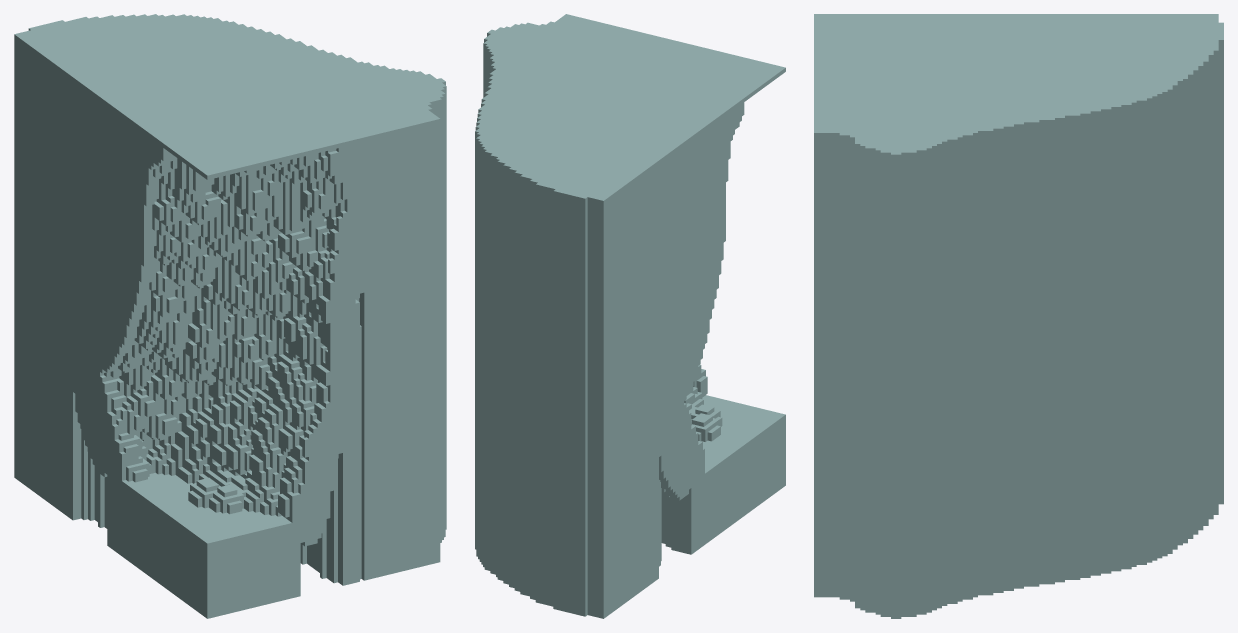
Rendered from TerrainPieces-23.obj.
The picture shows the model from 3 angles, left to right: view 1: azimuth 30°, elevation 25°; view 2: azimuth 150°, elevation 25°; view 3: azimuth 270°, elevation 25°; orthographic projection. The views are drawn at different scales.
Parts seen in each view (by area): view 1: TerrainPieces-23; view 2: TerrainPieces-23; view 3: TerrainPieces-23.
Boxes of the visible parts, <box> form: TerrainPieces-23: <box>14,14,446,618</box>; TerrainPieces-23: <box>475,14,785,618</box>; TerrainPieces-23: <box>814,14,1223,618</box>.
Bounding box in the file's own units: 65 × 100 × 80.
Materials: 1 (1 with a texture image).
